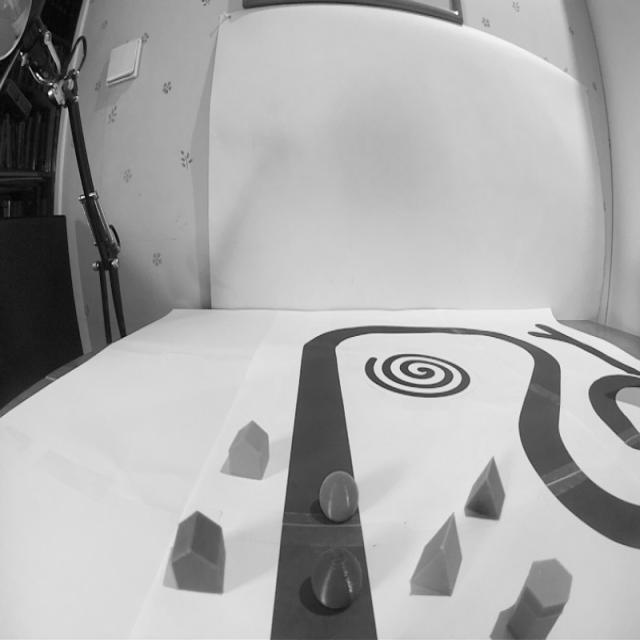ball: (310, 546, 364, 612), (318, 470, 360, 524)
hexagon: (507, 558, 573, 639)
home: (224, 421, 268, 480)
lineStraight: (267, 445, 384, 640)
nest: (364, 350, 473, 399)
triangle: (169, 510, 224, 594), (409, 514, 462, 596), (464, 456, 506, 520)
